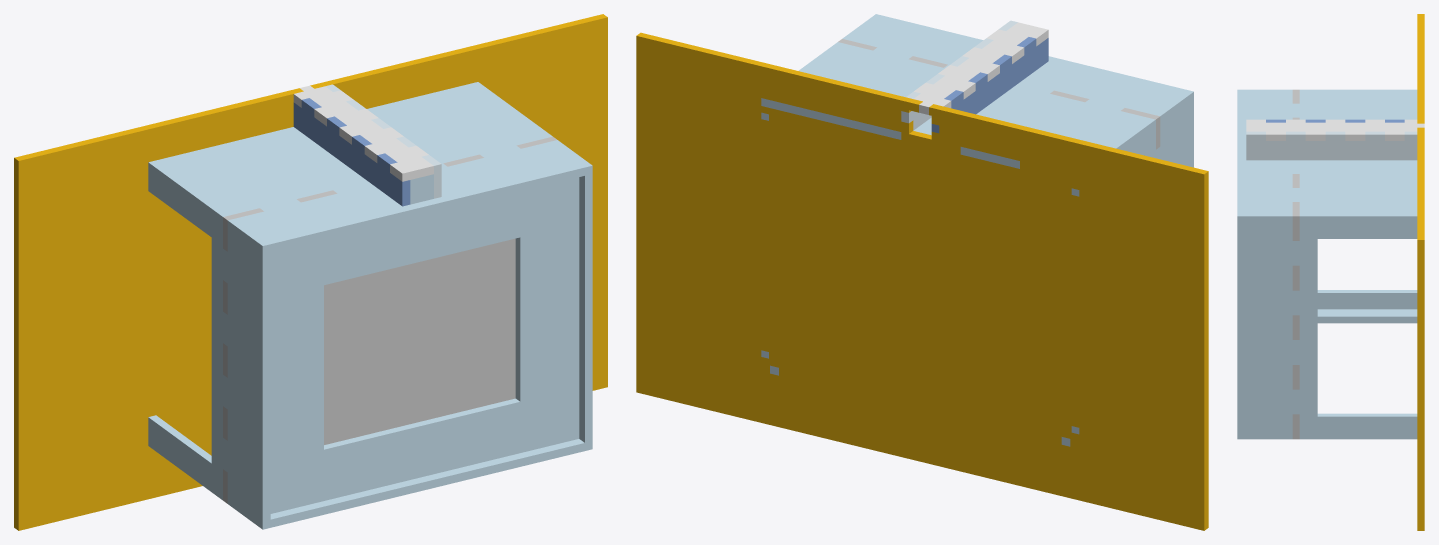
Rendered from Part Studio 1.gltf.
3 renders of one model, left to right at view 1: azimuth 30°, elevation 25°; view 2: azimuth 150°, elevation 25°; view 3: azimuth 270°, elevation 25°, orthographic. The views are drawn at different scales.
Parts seen in each view (by area): view 1: Part 10, Part 5, Part 6, Part 1, Part 2, Part 3, Part 8, Part 4, Part 7, Part 9; view 2: Part 10, Part 1, Part 8, Part 7, Part 2, Part 6, Part 9, Part 5; view 3: Part 4, Part 1, Part 9, Part 10, Part 8, Part 3, Part 2, Part 6, Part 5, Part 7.
Part boxes in pixels (x1,y1,x2,y2): Part 10: [14, 14, 607, 530]; Part 5: [252, 162, 579, 524]; Part 6: [223, 136, 556, 503]; Part 1: [148, 82, 592, 254]; Part 2: [148, 163, 270, 529]; Part 3: [148, 438, 592, 527]; Part 8: [293, 85, 433, 181]; Part 4: [475, 85, 592, 442]; Part 7: [293, 98, 410, 206]; Part 9: [325, 84, 441, 198]; Part 10: [636, 32, 1208, 530]; Part 1: [761, 14, 1193, 168]; Part 8: [913, 22, 1048, 114]; Part 7: [931, 37, 1048, 133]; Part 2: [1071, 100, 1193, 434]; Part 6: [838, 39, 1160, 149]; Part 9: [901, 20, 1017, 130]; Part 5: [882, 22, 1188, 166]; Part 4: [1237, 213, 1417, 439]; Part 1: [1237, 89, 1417, 222]; Part 9: [1246, 131, 1417, 160]; Part 10: [1417, 14, 1424, 530]; Part 8: [1246, 119, 1424, 140]; Part 3: [1237, 309, 1417, 439]; Part 2: [1313, 89, 1417, 309]; Part 6: [1292, 89, 1299, 439]; Part 5: [1246, 95, 1253, 439]; Part 7: [1266, 119, 1404, 122].
Size of the model in its own units: 0.3 by 0.18 by 0.105.
